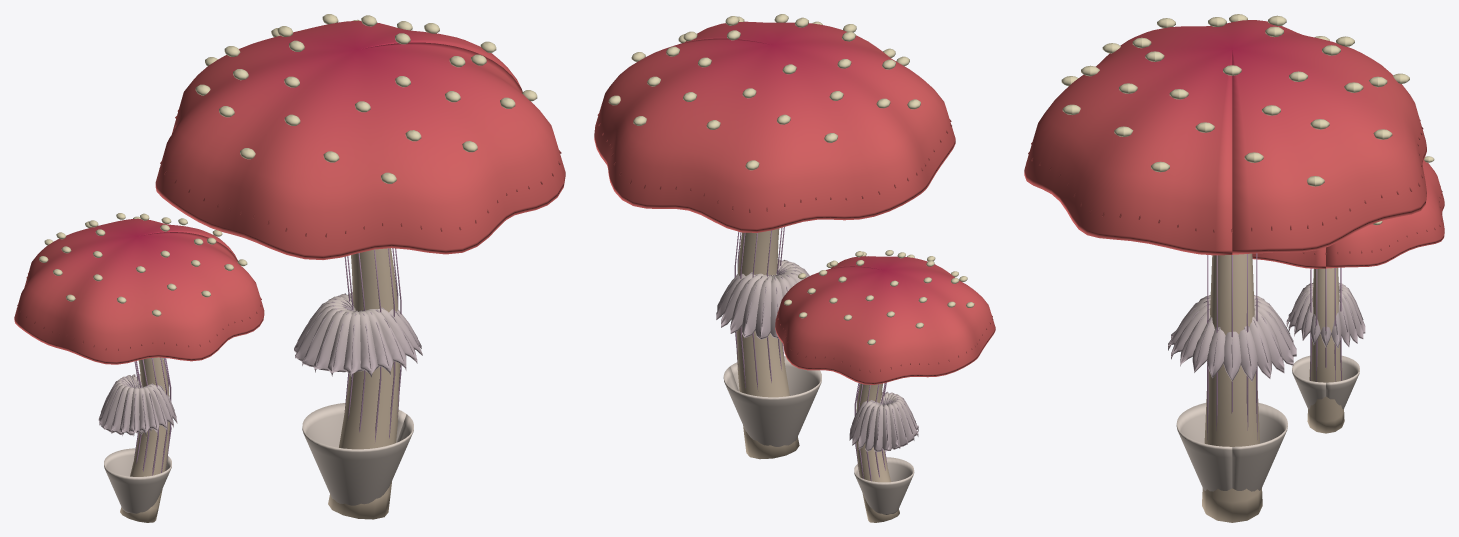
Rendered from enchanted-flyagaric.glb.
3 views of the same model, side by side, from view 1: azimuth 30°, elevation 25°; view 2: azimuth 150°, elevation 25°; view 3: azimuth 270°, elevation 25° (orthographic). The views are drawn at different scales.
Parts seen in each view (by area): view 1: enchanted-flyagaric-sculpted-details; view 2: enchanted-flyagaric-sculpted-details; view 3: enchanted-flyagaric-sculpted-details.
Boxes of the visible parts, bbox=[...] form: enchanted-flyagaric-sculpted-details: bbox=[14, 14, 565, 522]; enchanted-flyagaric-sculpted-details: bbox=[594, 14, 995, 522]; enchanted-flyagaric-sculpted-details: bbox=[1024, 14, 1444, 522].
Size of the model in its own units: 1.03 by 1 by 0.8183.
